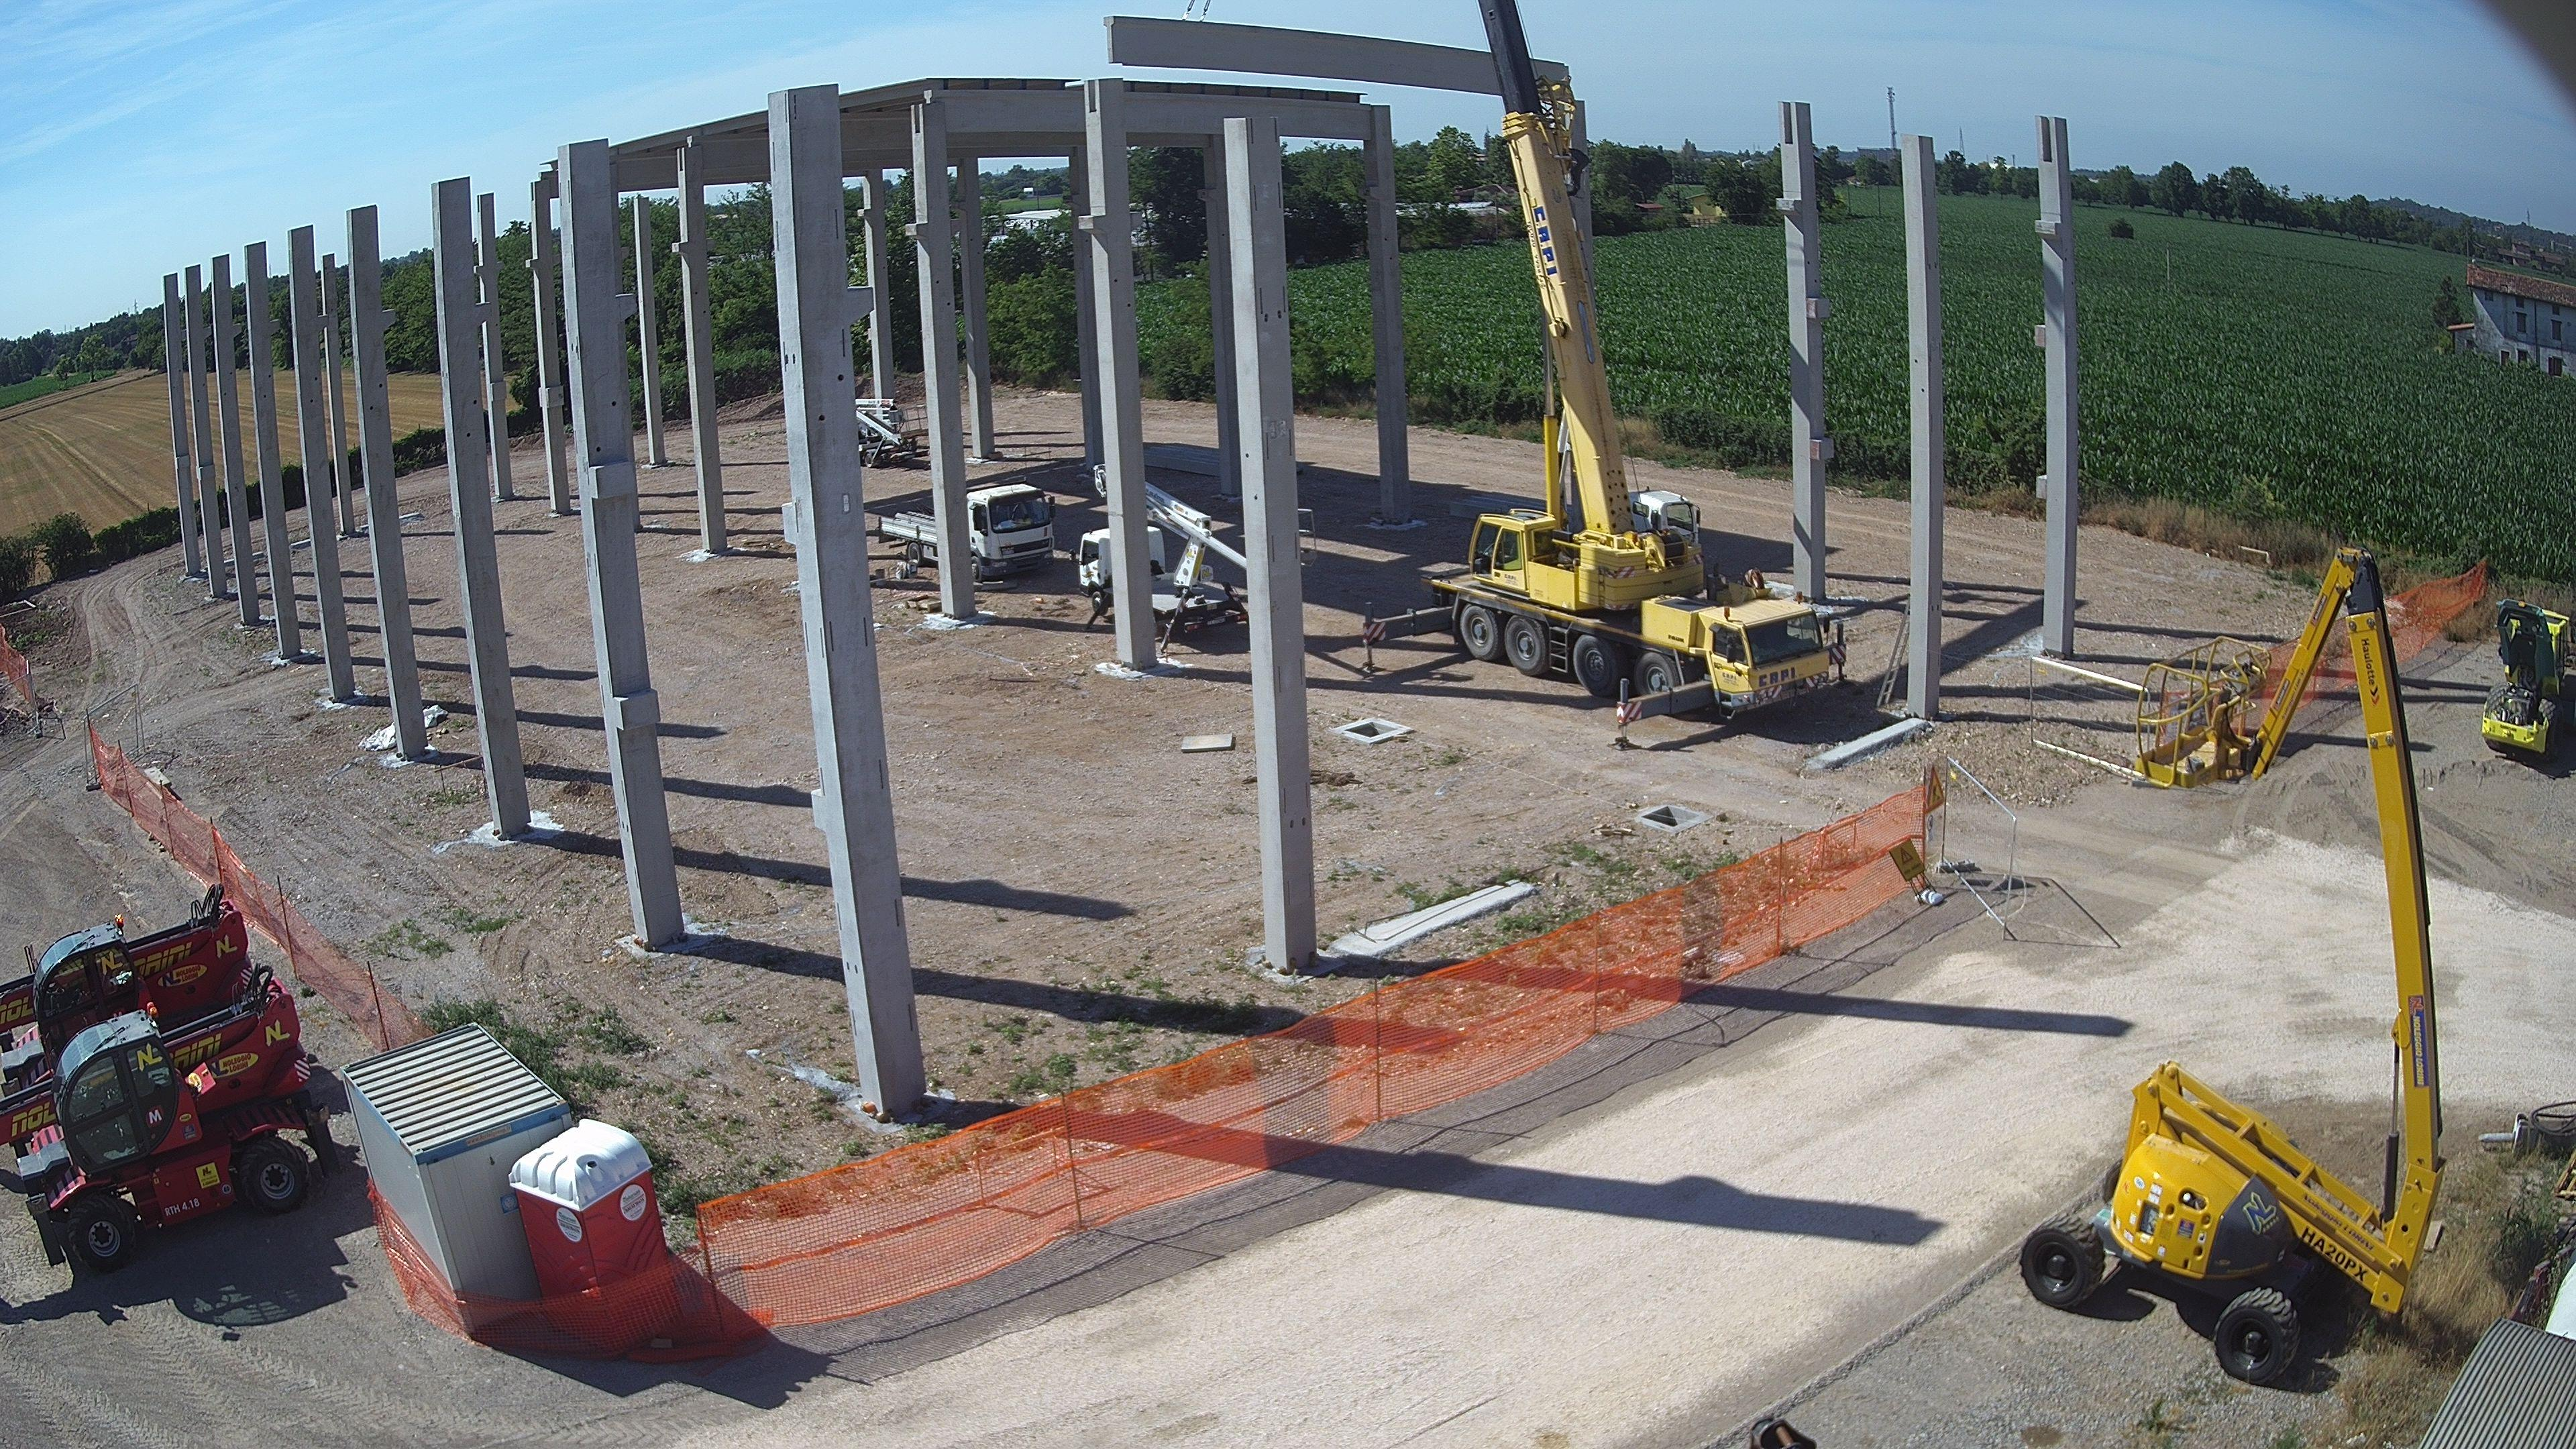Aerial platforms: (2017, 548, 2450, 1385), (1146, 481, 1246, 660), (856, 398, 931, 469), (1074, 525, 1116, 630), (1629, 488, 1702, 541), (1555, 409, 1576, 515), (1562, 147, 1591, 223), (1299, 508, 1322, 570), (1092, 464, 1108, 499)
Trucks: (878, 479, 1056, 582)
excavator: (1359, 0, 1851, 752), (0, 964, 340, 1270), (0, 883, 258, 1097)
